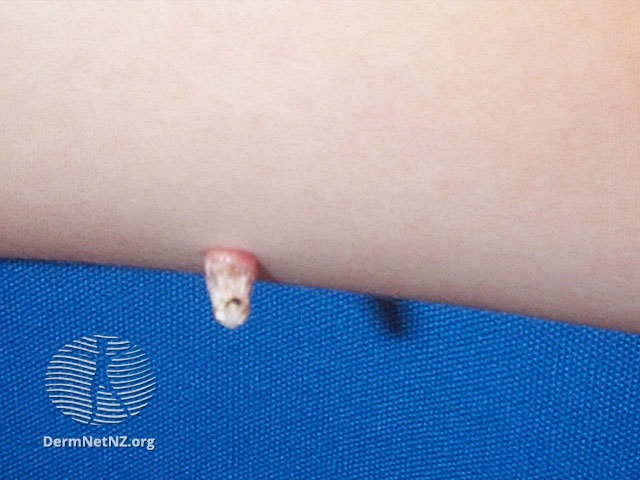Warts: (181, 221, 264, 344)
